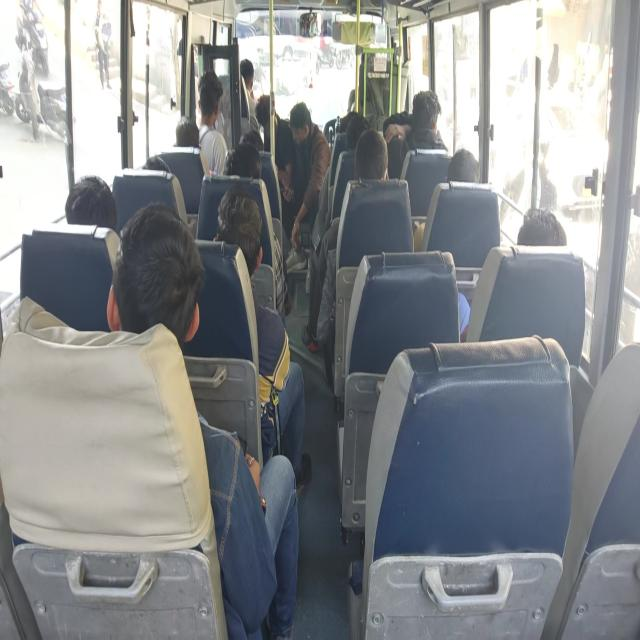person: (128, 230, 205, 338), (212, 198, 264, 262), (68, 177, 118, 233), (524, 206, 568, 250), (449, 153, 489, 197), (412, 94, 444, 138), (232, 48, 264, 92), (358, 136, 387, 182), (229, 143, 258, 184), (344, 109, 375, 146), (137, 149, 170, 183), (200, 80, 223, 125), (290, 103, 310, 149), (178, 109, 200, 149), (245, 123, 267, 148)
